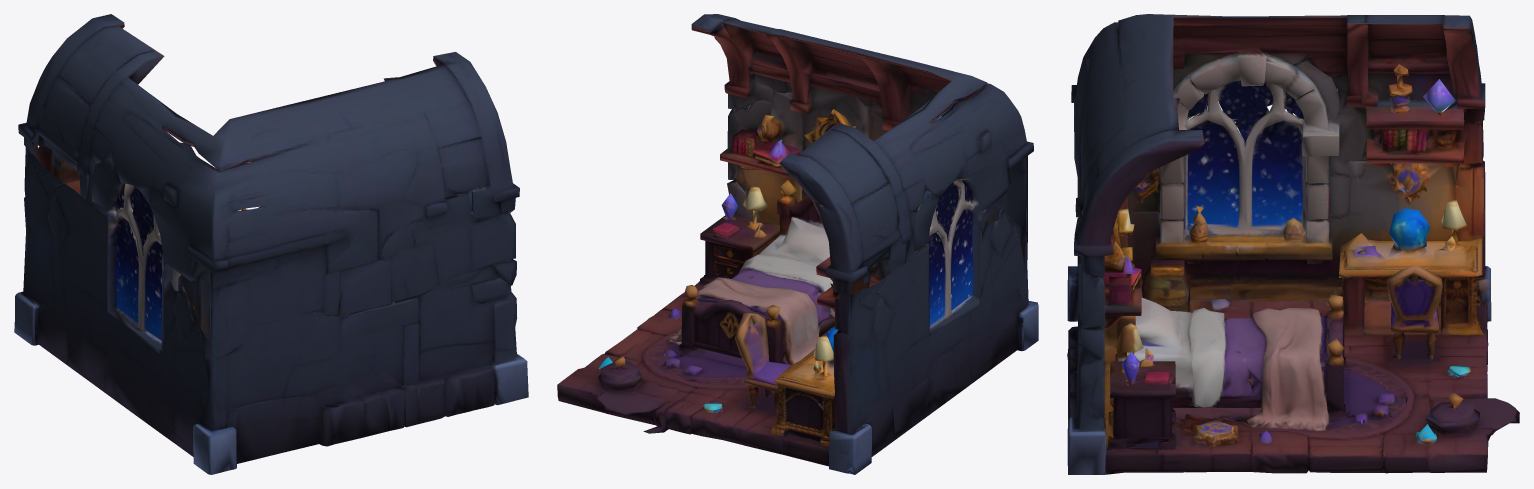
File: Wizards Bedroom Diorama.glb
The picture shows the model from 3 angles, left to right: view 1: azimuth 30°, elevation 25°; view 2: azimuth 150°, elevation 25°; view 3: azimuth 270°, elevation 25°; orthographic projection. The views are drawn at different scales.
Visible parts, largest first — view 1: tripo_node_d2cb850d-05a8-4935-ab97-56edad577637; view 2: tripo_node_d2cb850d-05a8-4935-ab97-56edad577637; view 3: tripo_node_d2cb850d-05a8-4935-ab97-56edad577637.
Boxes of the visible parts, x1=… form: tripo_node_d2cb850d-05a8-4935-ab97-56edad577637: x1=14, y1=14, x2=528, y2=474; tripo_node_d2cb850d-05a8-4935-ab97-56edad577637: x1=557, y1=14, x2=1038, y2=474; tripo_node_d2cb850d-05a8-4935-ab97-56edad577637: x1=1067, y1=14, x2=1519, y2=474.
Size of the model in its own units: 0.7499 by 0.6853 by 0.8537.
1 material, 1 textured.
